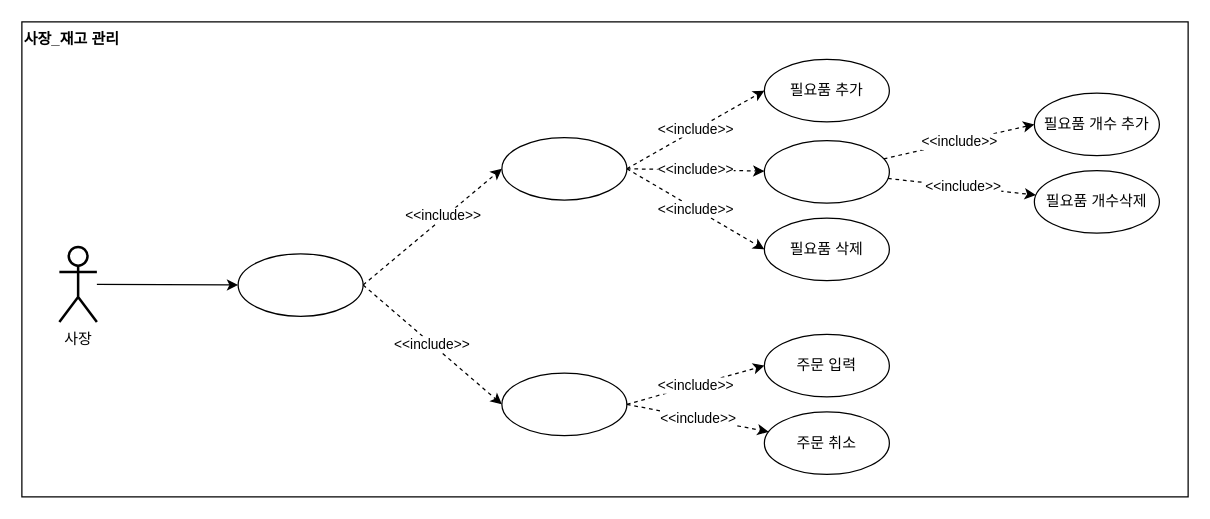
Some shapes in this 1210 by 519 pixel diagram are drawn without their labels. The shapes that lost their labels are listed below. From the top down, each one's centre as x and y in pixels, then its label:
At (564,168): "필요품 등록".
At (826,171): "필요품 수정".
At (300,284): "필요품 관리".
At (564,404): "필요품 주문".
